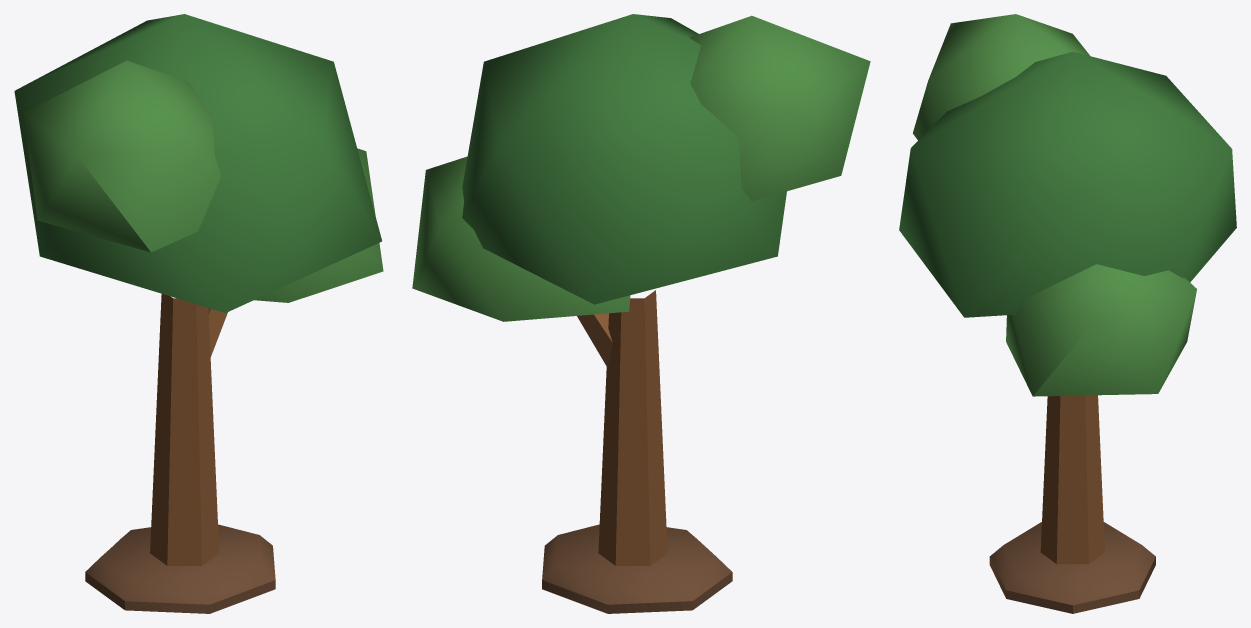
Rendered from orange_tree_young.glb.
The picture shows the model from 3 angles, left to right: view 1: azimuth 30°, elevation 25°; view 2: azimuth 150°, elevation 25°; view 3: azimuth 270°, elevation 25°; orthographic projection. The views are drawn at different scales.
Visible parts, largest first — view 1: orange_tree_young; view 2: orange_tree_young; view 3: orange_tree_young.
Part boxes in pixels (left/top/right/bottom): orange_tree_young: left=14, top=14, right=383, bottom=613; orange_tree_young: left=412, top=14, right=870, bottom=613; orange_tree_young: left=899, top=14, right=1236, bottom=613.
Bounding box in the file's own units: 0.8427 × 1.22 × 0.7135.
Materials: 1 (1 with a texture image).
